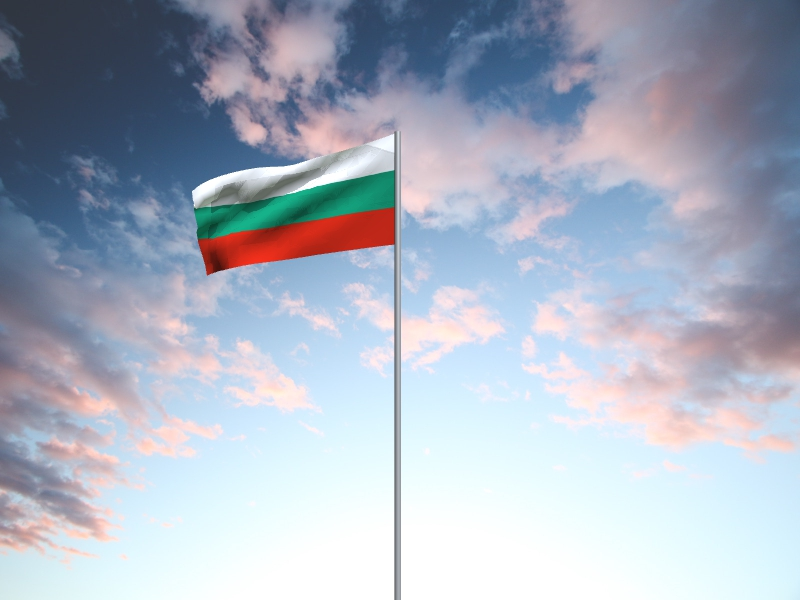bg: (191, 135, 395, 278)
